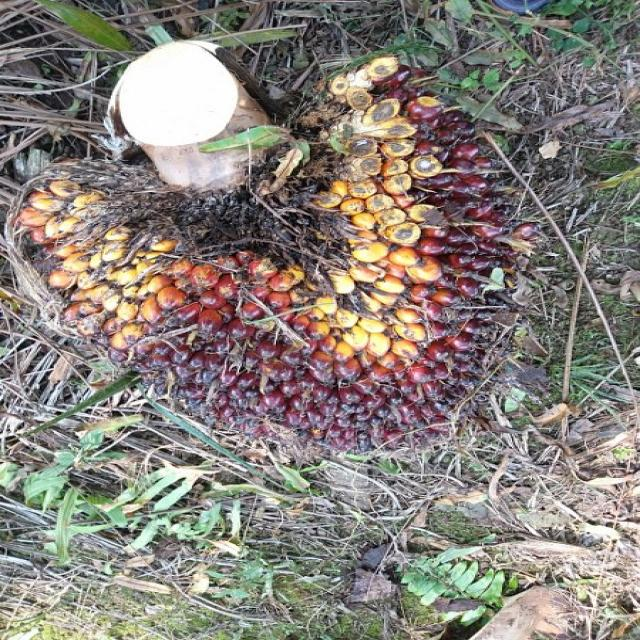fraksi 1: (4, 36, 547, 496)
